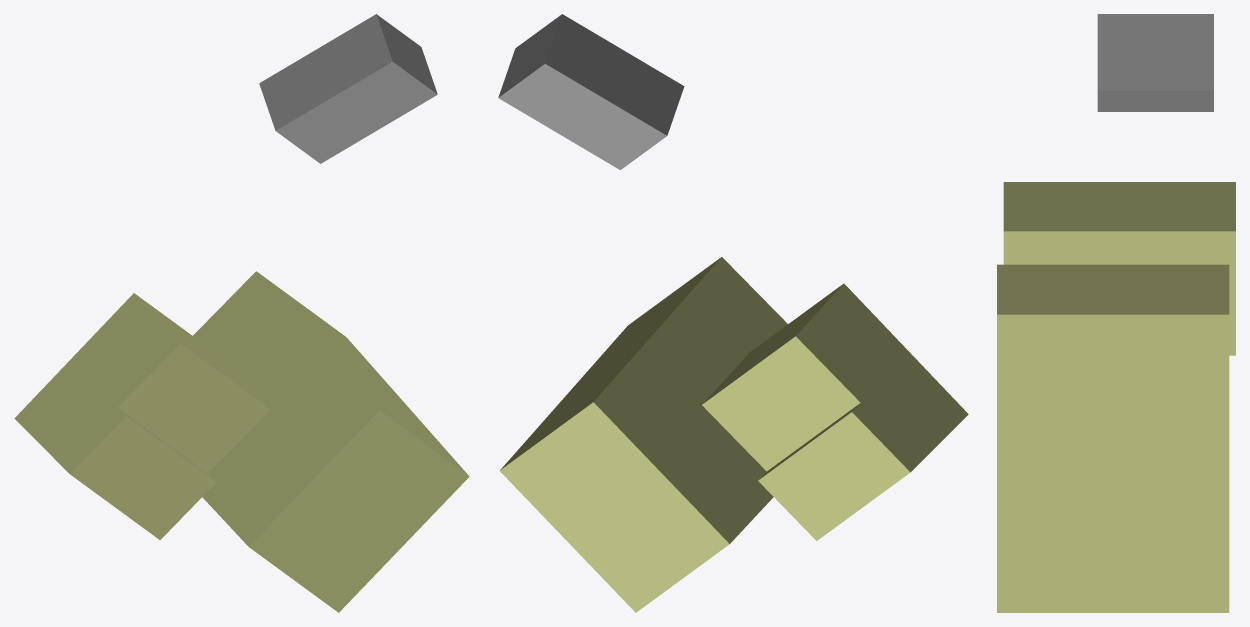
3 renders of one model, left to right at view 1: azimuth 30°, elevation 25°; view 2: azimuth 150°, elevation 25°; view 3: azimuth 270°, elevation 25°, orthographic. The views are drawn at different scales.
Visible parts, largest first — view 1: 0_1_2_0_1_1_0_0_0_0; view 2: 0_1_2_0_1_1_0_0_0_0; view 3: 0_1_2_0_1_1_0_0_0_0.
Boxes of the visible parts, x1,y1,x2,y2 form: 0_1_2_0_1_1_0_0_0_0: [14, 14, 469, 612]; 0_1_2_0_1_1_0_0_0_0: [498, 14, 968, 612]; 0_1_2_0_1_1_0_0_0_0: [997, 14, 1235, 612].
Bounding box in the file's own units: 14.21 × 18.64 × 6.17.
